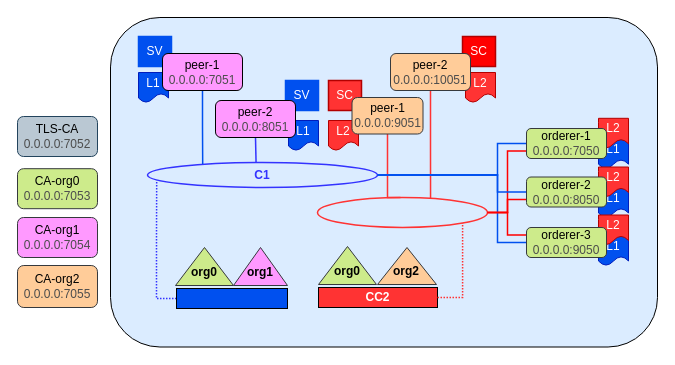
The diagram is 675 pixels wide and 365 high, and some of its shapes have lost their labels. Here are the shapes that lost their labels. From the top down, the centre of each, then its label:
At [402,212]: "C2".
At [232,298]: "CC1".
